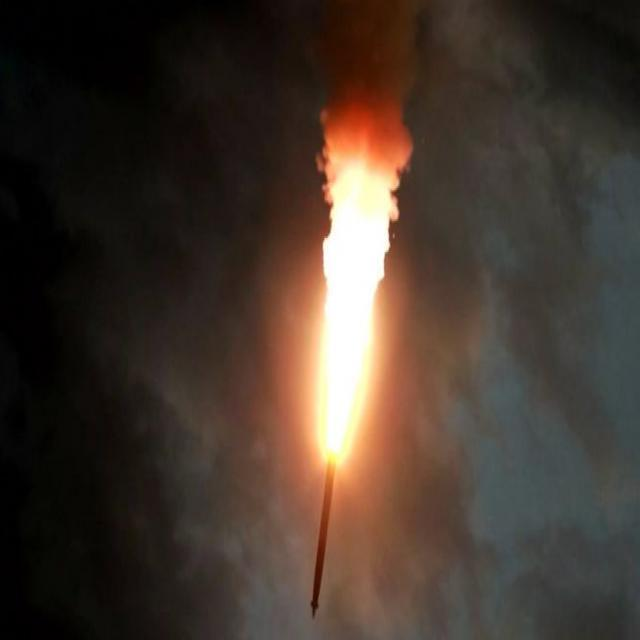missile: (300, 453, 349, 626)
